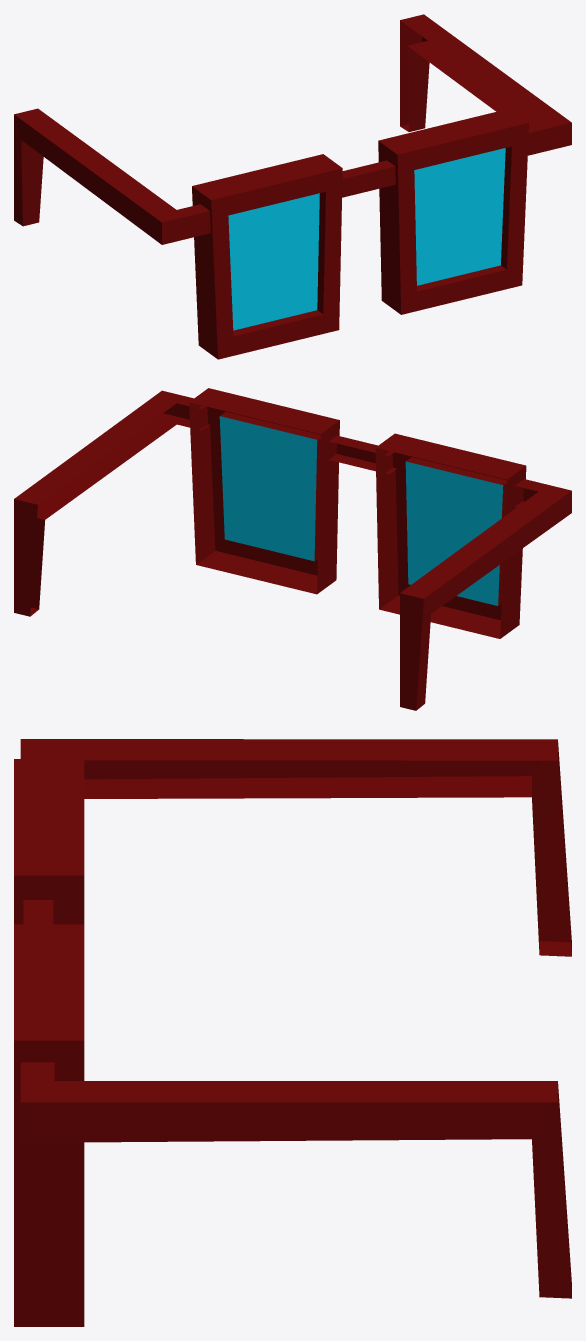
Rendered from Glasses 01.FBX.
3 renders of one model, top to bottom at view 1: azimuth 30°, elevation 25°; view 2: azimuth 150°, elevation 25°; view 3: azimuth 270°, elevation 25°, orthographic. The views are drawn at different scales.
Parts seen in each view (by area): view 1: Glasses 01; view 2: Glasses 01; view 3: Glasses 01.
Boxes of the visible parts, left/top/right/bottom form: Glasses 01: left=14, top=14, right=571, bottom=359; Glasses 01: left=14, top=388, right=571, bottom=710; Glasses 01: left=14, top=739, right=571, bottom=1326.
Bounding box in the file's own units: 53.49 × 20.08 × 34.74.
